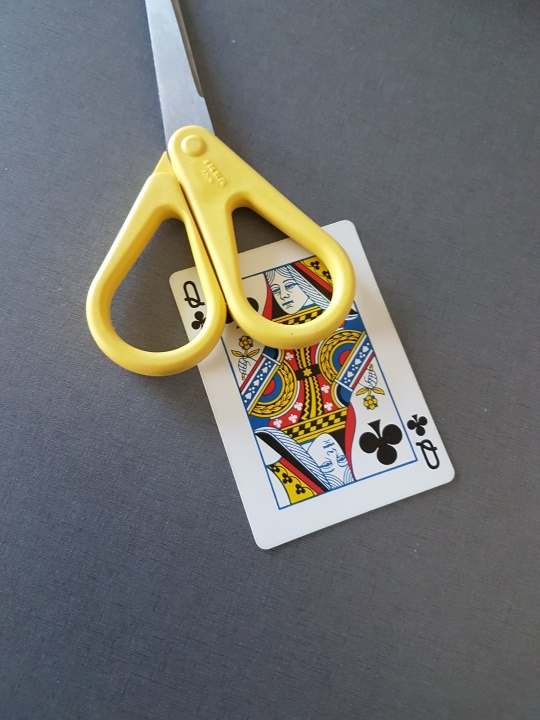queen: (161, 213, 468, 568)
